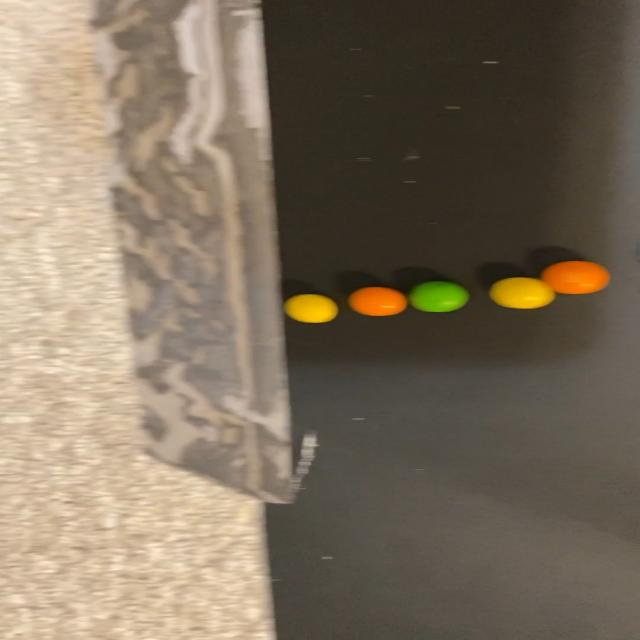smartie: (541, 261, 610, 294), (489, 277, 555, 309), (408, 281, 469, 312), (348, 287, 407, 316), (284, 294, 337, 323)
